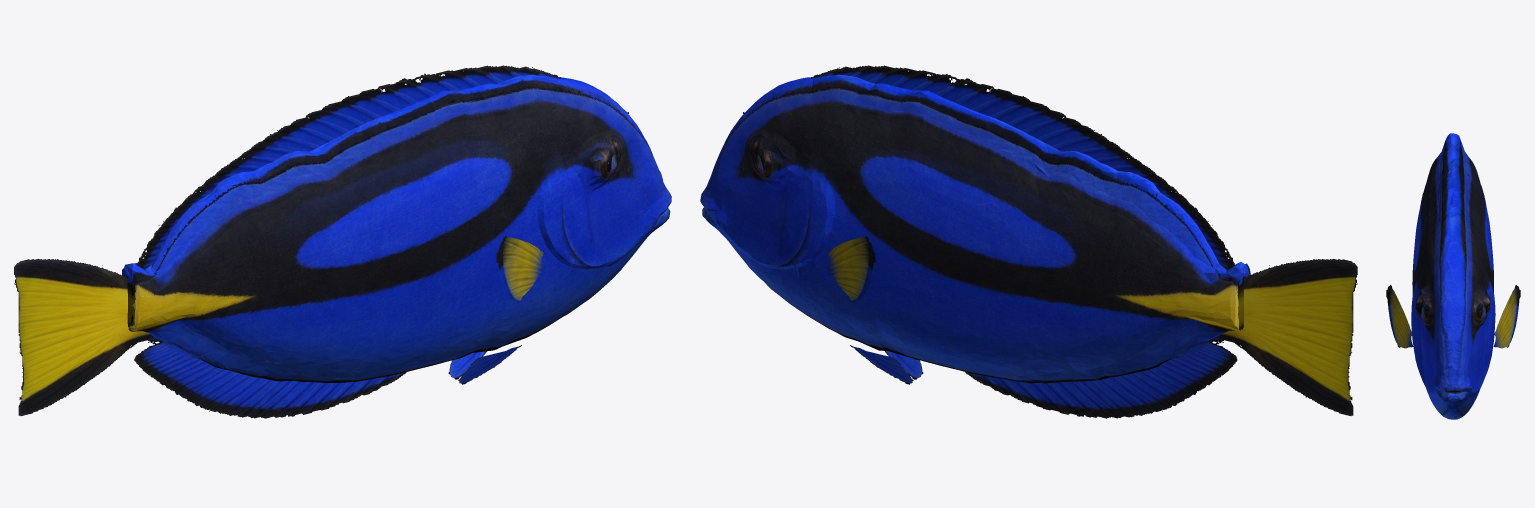
Rendered from bluetang2-gen.glb.
3 views of the same model, side by side, from view 1: azimuth 30°, elevation 25°; view 2: azimuth 150°, elevation 25°; view 3: azimuth 270°, elevation 25° (orthographic). The views are drawn at different scales.
Parts seen in each view (by area): view 1: body, card, pec_l, pel_l; view 2: body, card, pec_r, pel_r; view 3: body, pec_r, pec_l.
Part boxes in pixels (<box>): body: <box>122,74,671,382</box>; card: <box>14,65,628,418</box>; pec_l: <box>496,236,544,302</box>; pel_l: <box>458,345,521,384</box>; body: <box>700,74,1250,383</box>; card: <box>743,65,1357,418</box>; pec_r: <box>826,236,875,302</box>; pel_r: <box>850,345,913,384</box>; body: <box>1411,133,1495,419</box>; pec_r: <box>1493,285,1520,348</box>; pec_l: <box>1386,285,1413,348</box>.
Size of the model in its own units: 1 by 0.4678 by 0.237.
Materials: 4 (4 with a texture image).
